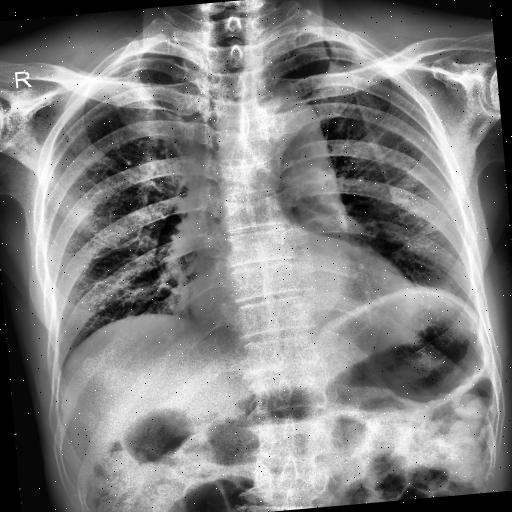0- Aortic enlargement: (245, 93, 345, 216), (247, 90, 333, 186), (240, 94, 324, 154)
3- Cardiomegaly: (188, 257, 422, 349)
